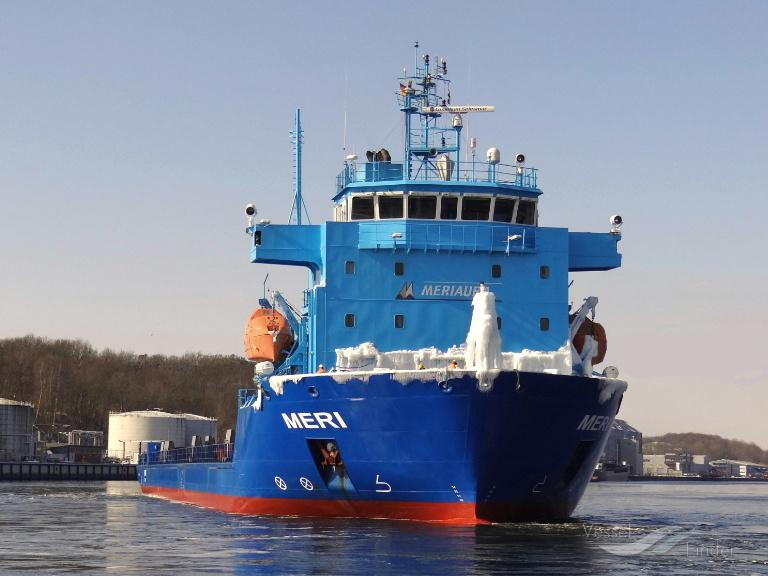OCR: (274, 399, 352, 435), (418, 277, 491, 300)
